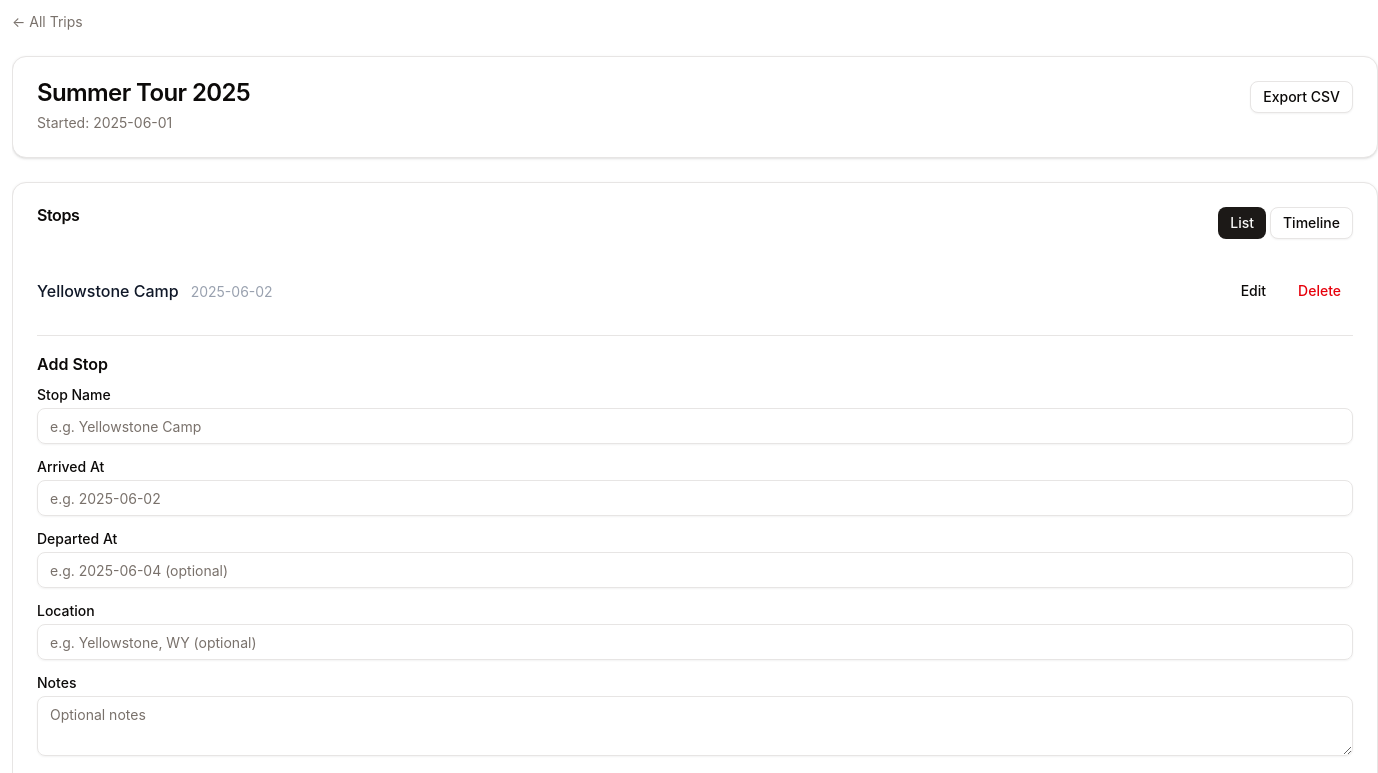
TripDetailPage › returns to list view when the List tab is clicked after switching to Timeline
Click the button "Timeline" at (1312, 223), box [1270,207,1353,239]
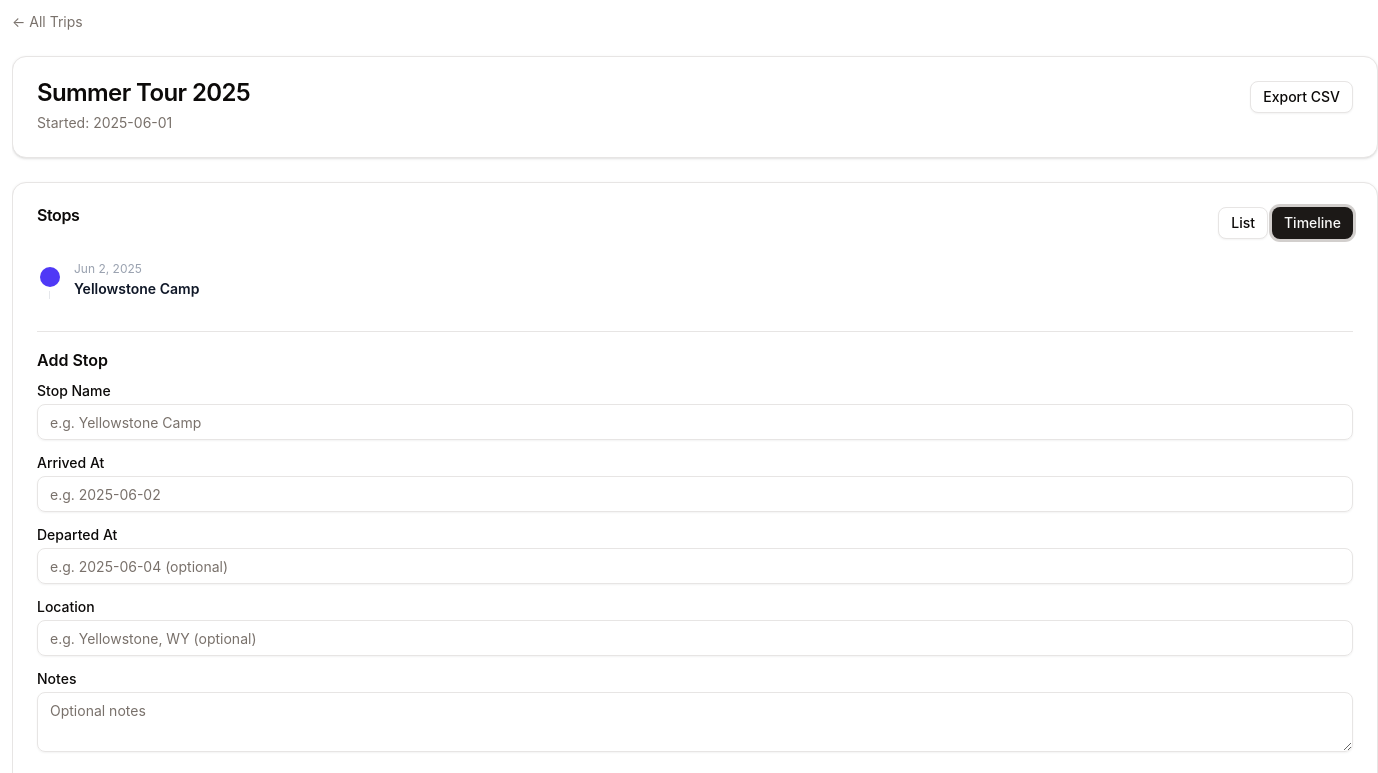
Click the button "List" at (1243, 223), box [1218,207,1268,239]
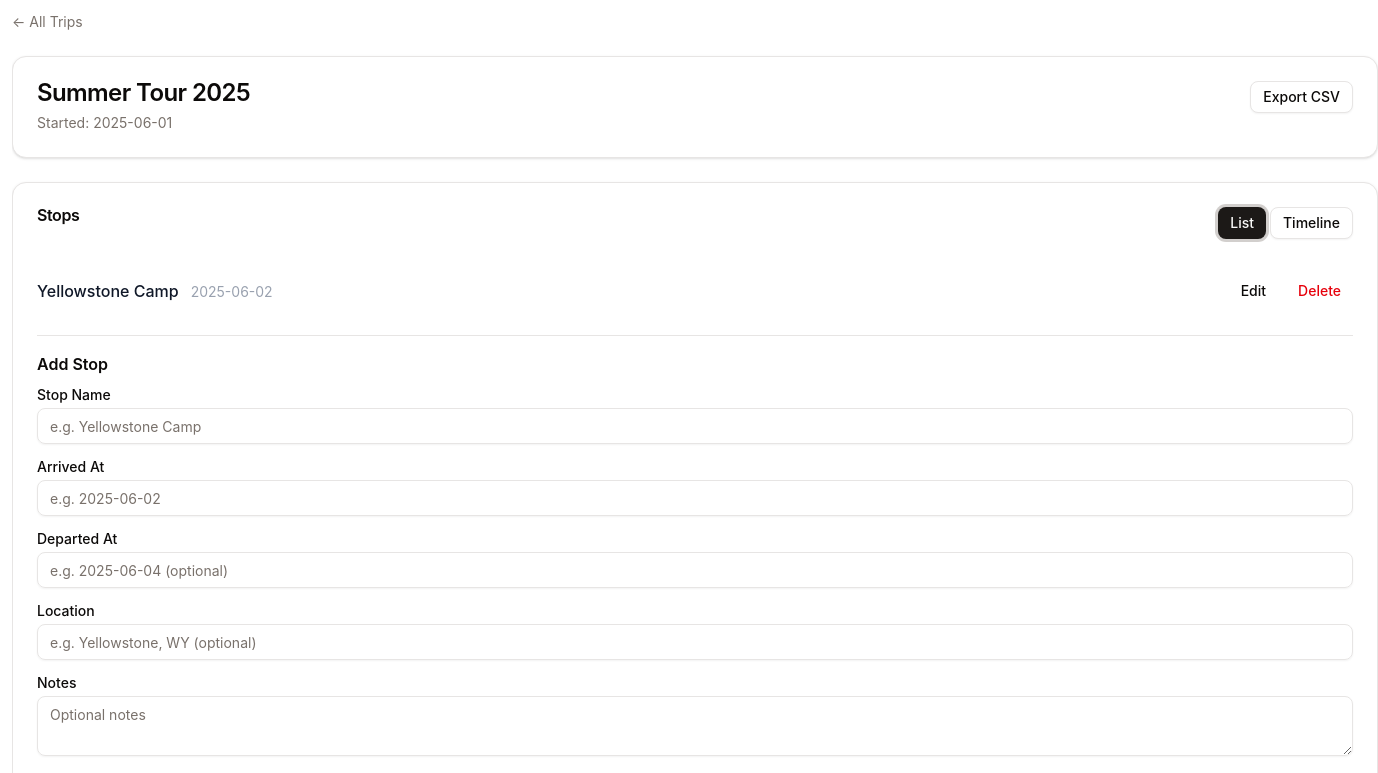
Check: the button with aria-label "edit yellowstone camp" is shown, box [1229,275,1278,307]
